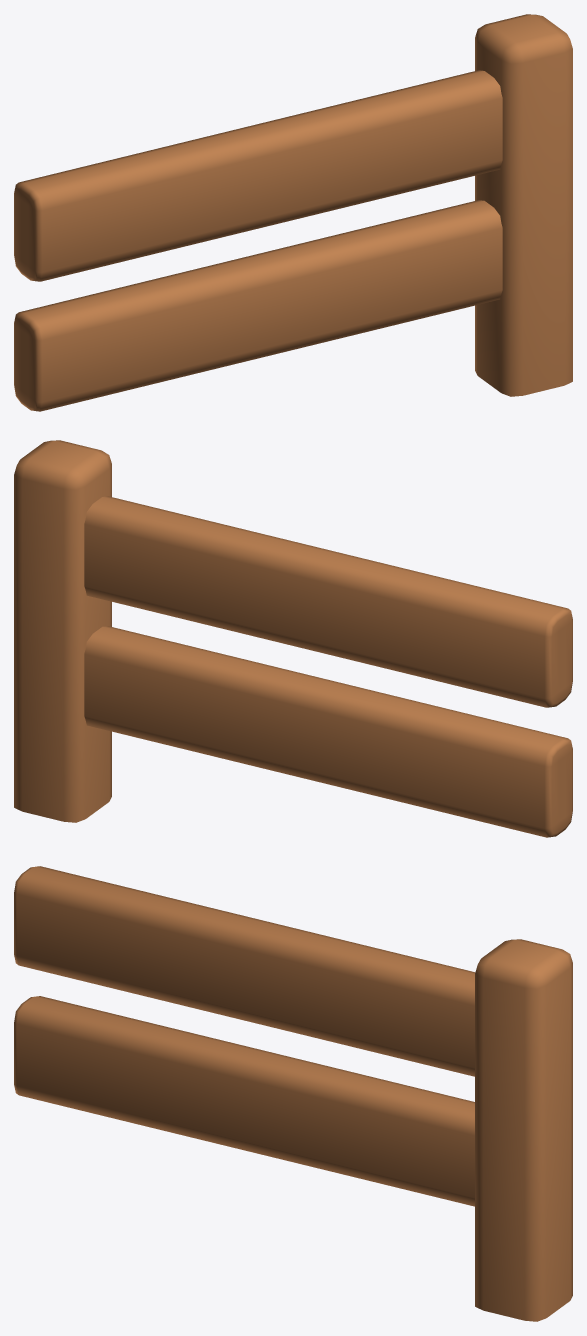
Rendered from Wooden_Fence_04.fbx.
3 renders of one model, top to bottom at view 1: azimuth 30°, elevation 25°; view 2: azimuth 150°, elevation 25°; view 3: azimuth 330°, elevation 25°, orthographic.
Parts seen in each view (by area): view 1: Wooden_Fence_04; view 2: Wooden_Fence_04; view 3: Wooden_Fence_04.
Part boxes in pixels (x1,y1,x2,y2): Wooden_Fence_04: (14, 14, 572, 411); Wooden_Fence_04: (14, 440, 572, 837); Wooden_Fence_04: (14, 866, 572, 1321).
Size of the model in its own units: 1412 by 878 by 183.
